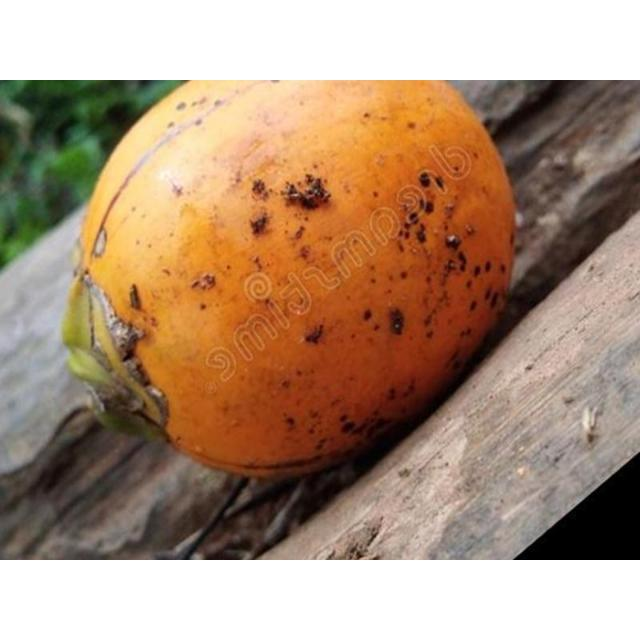good: (62, 80, 517, 485)
